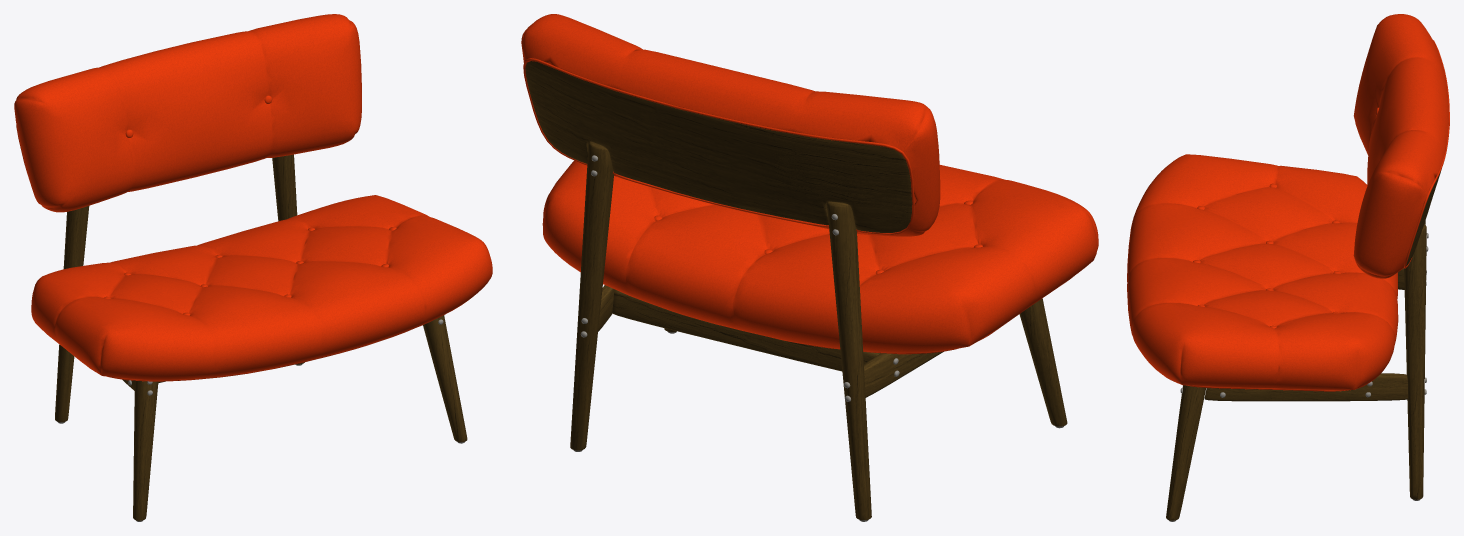
The model's file is sheen-chair.glb.
The picture shows the model from 3 angles, left to right: view 1: azimuth 30°, elevation 25°; view 2: azimuth 150°, elevation 25°; view 3: azimuth 270°, elevation 25°; orthographic projection. The views are drawn at different scales.
Parts seen in each view (by area): view 1: SheenChair_fabric, SheenChair_wood; view 2: SheenChair_fabric, SheenChair_wood; view 3: SheenChair_fabric, SheenChair_wood.
Part boxes in pixels (box(x1,y1,x2,y2)): SheenChair_fabric: box(14, 14, 492, 381); SheenChair_wood: box(55, 154, 467, 520); SheenChair_fabric: box(521, 14, 1098, 354); SheenChair_wood: box(525, 61, 1067, 520); SheenChair_fabric: box(1127, 14, 1449, 391); SheenChair_wood: box(1166, 169, 1441, 520).
Size of the model in its own units: 0.8266 by 0.6861 by 0.57.
4 materials, 3 textured.
